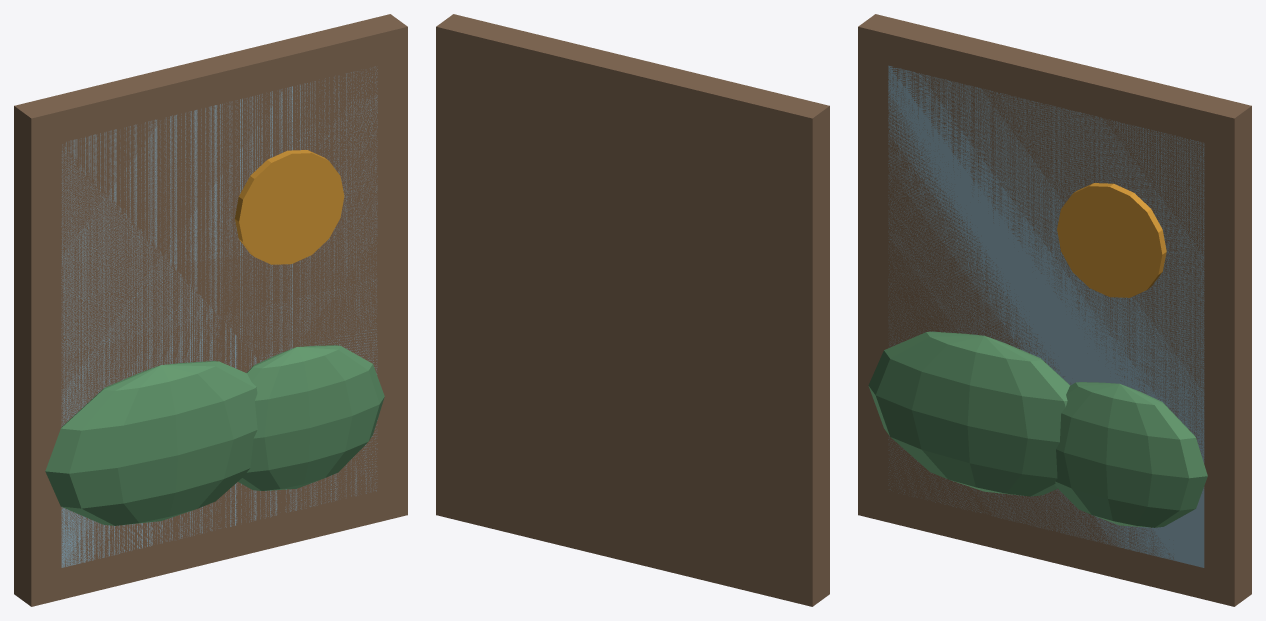
The model's file is arte_quadro_cozinha2.glb.
3 renders of one model, left to right at view 1: azimuth 30°, elevation 25°; view 2: azimuth 150°, elevation 25°; view 3: azimuth 330°, elevation 25°, orthographic.
Parts seen in each view (by area): view 1: ARTE_QuadroCozinha2_Moldura, ARTE_QuadroCozinha2_Tela, ARTE_QuadroCozinha2_Colina1, ARTE_QuadroCozinha2_Colina2, ARTE_QuadroCozinha2_Sol; view 2: ARTE_QuadroCozinha2_Moldura; view 3: ARTE_QuadroCozinha2_Moldura, ARTE_QuadroCozinha2_Tela, ARTE_QuadroCozinha2_Colina1, ARTE_QuadroCozinha2_Colina2, ARTE_QuadroCozinha2_Sol.
Part boxes in pixels (x1,y1,x2,y2): ARTE_QuadroCozinha2_Moldura: (14, 14, 407, 606); ARTE_QuadroCozinha2_Tela: (61, 66, 377, 567); ARTE_QuadroCozinha2_Colina1: (45, 361, 257, 525); ARTE_QuadroCozinha2_Colina2: (238, 345, 384, 490); ARTE_QuadroCozinha2_Sol: (234, 150, 344, 264); ARTE_QuadroCozinha2_Moldura: (436, 14, 829, 606); ARTE_QuadroCozinha2_Moldura: (858, 14, 1251, 606); ARTE_QuadroCozinha2_Tela: (888, 65, 1204, 567); ARTE_QuadroCozinha2_Colina1: (868, 331, 1070, 496); ARTE_QuadroCozinha2_Colina2: (1055, 382, 1207, 527); ARTE_QuadroCozinha2_Sol: (1057, 183, 1166, 297).
Size of the model in its own units: 0.5 by 0.62 by 0.0825.
